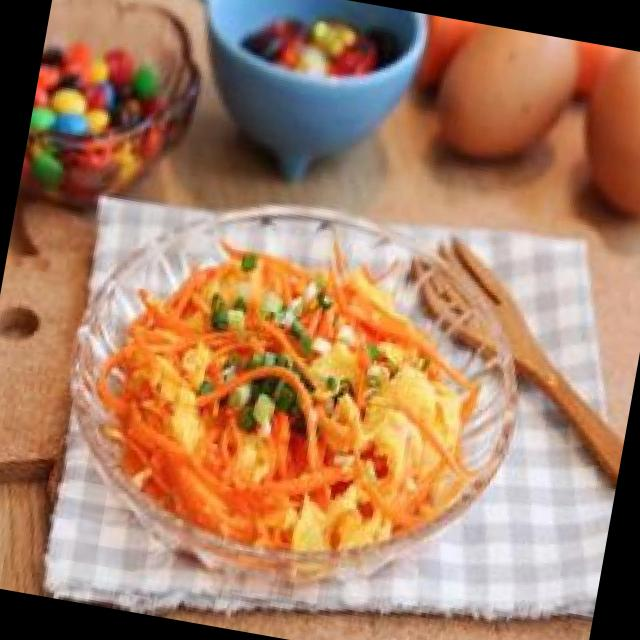carrot_eggs: (88, 232, 490, 572)
